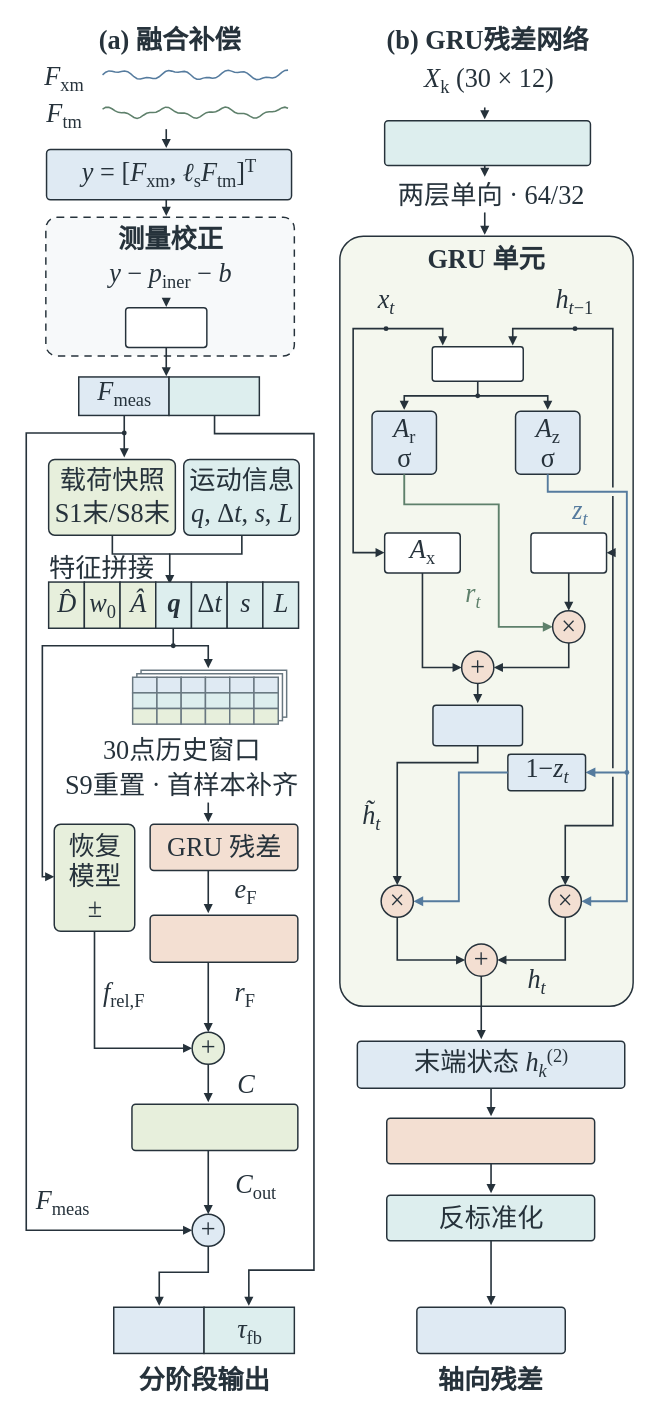
Image size: 654x1424. Some labels were removed from this diagram. Each missing label, with the centre of its shape:
"A h" belongs at point (568, 552).
"e F [ k ]" belongs at point (491, 1330).
"F fb" belongs at point (158, 1330).
"H 0 −1" belongs at point (166, 327).
"tanh" belongs at point (477, 725).
"τ meas" belongs at point (214, 396).
"拼接" belongs at point (477, 364).
"线性 32 → 1" belongs at point (490, 1140).
"补偿管理" belongs at point (214, 1127).
"输入标准化" belongs at point (487, 143).
"限幅与淡入" belongs at point (223, 938).
